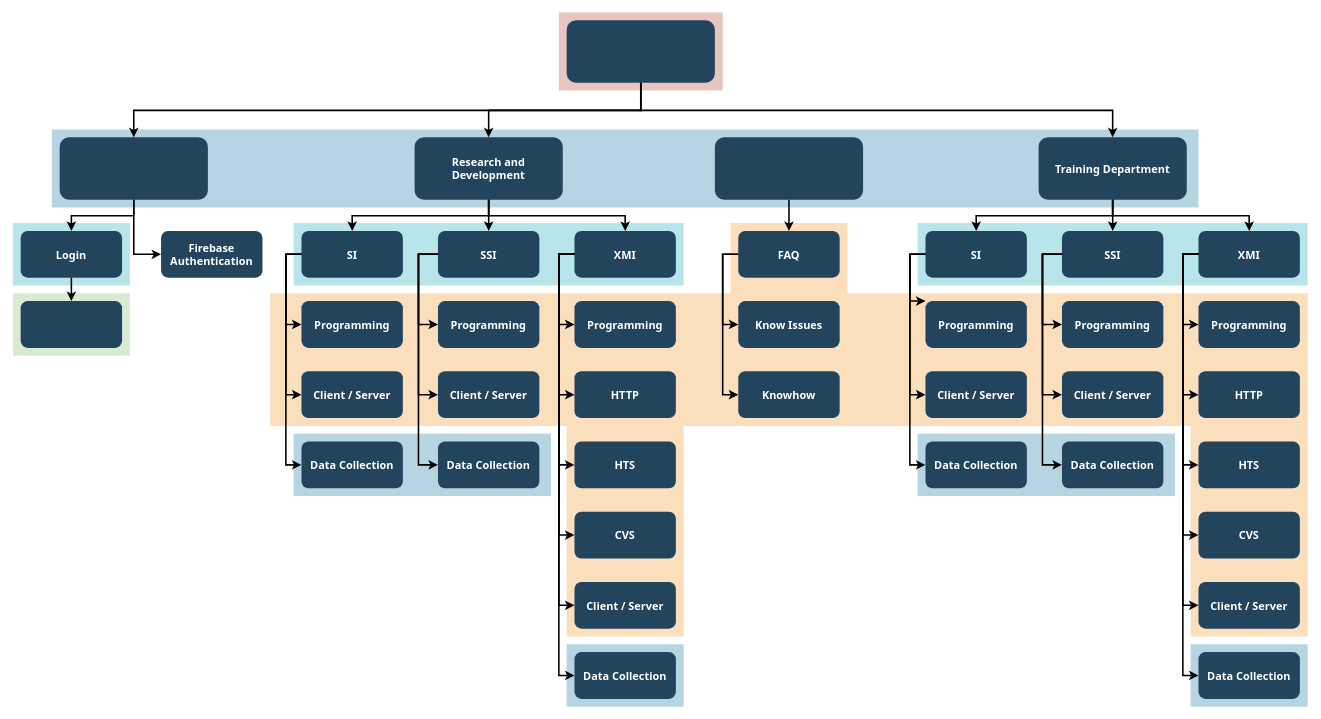
This 1321x719 diagram has some shape labels left out. The centre of each missing label's shape, as x and y in pixels:
Acoount: [133,168]
Homepage: [640,51]
Sign up: [71,324]
Technical Support: [788,168]
